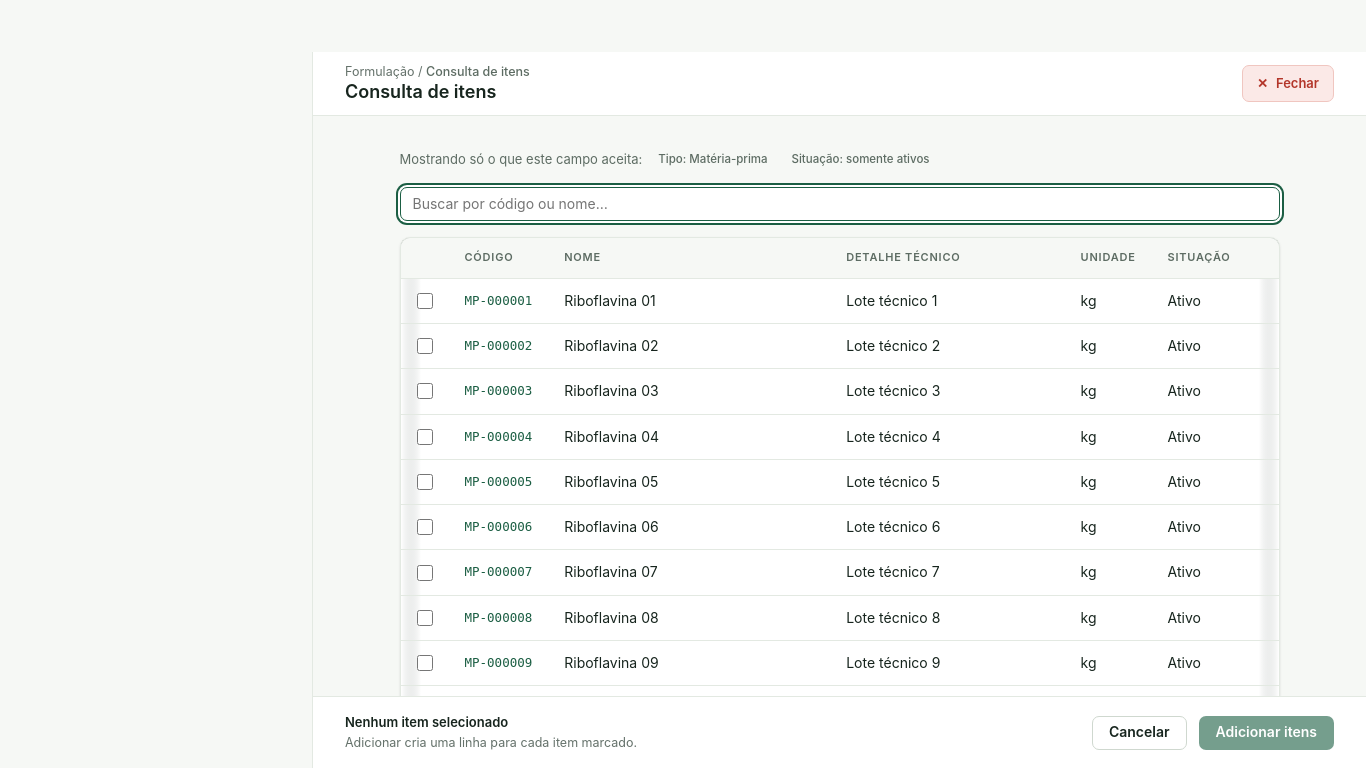
seleção múltipla › maxSelection nunca passa de 10, e um teto menor vale como teto
Click the checkbox named "Selecionar MP-000001 · Riboflavina 01" at (424,301), box [416,293,432,309]
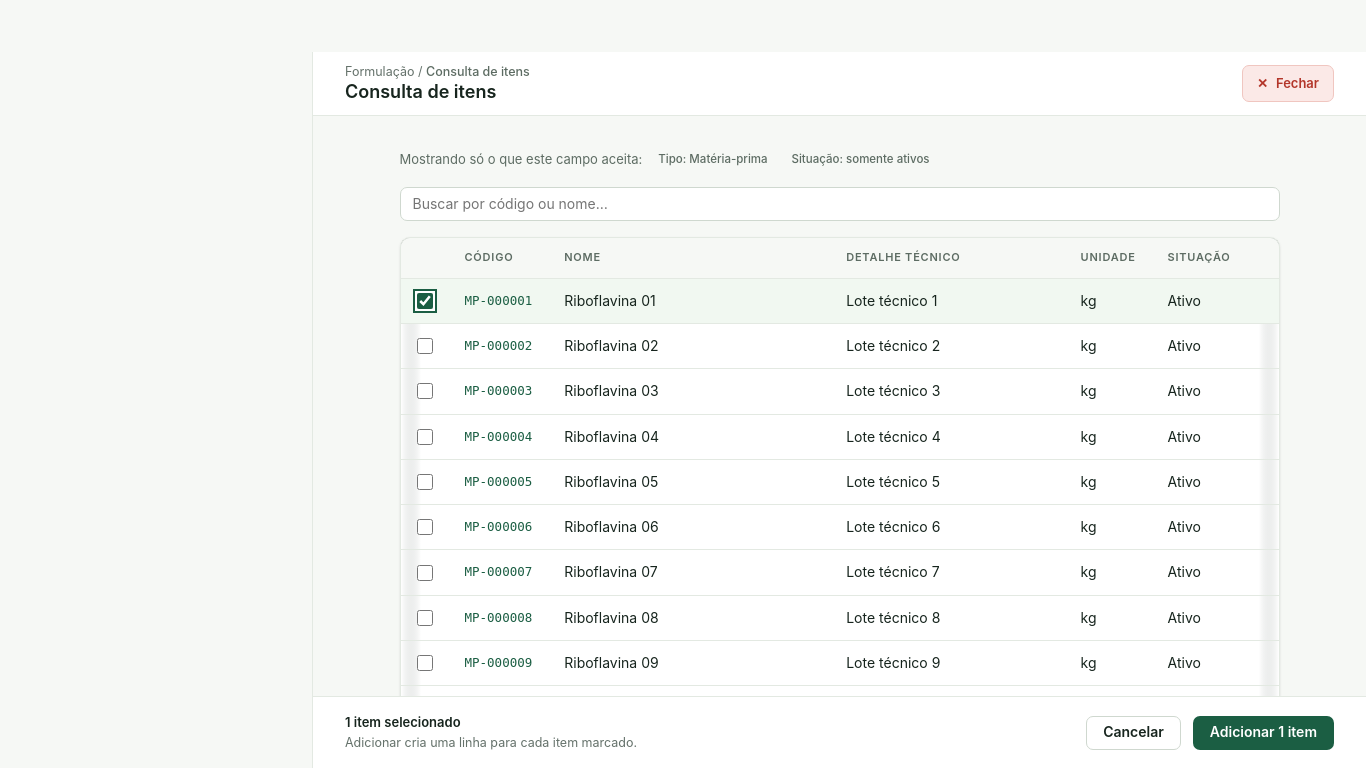
Click the checkbox named "Selecionar MP-000002 · Riboflavina 02" at (424,346), box [416,338,432,354]
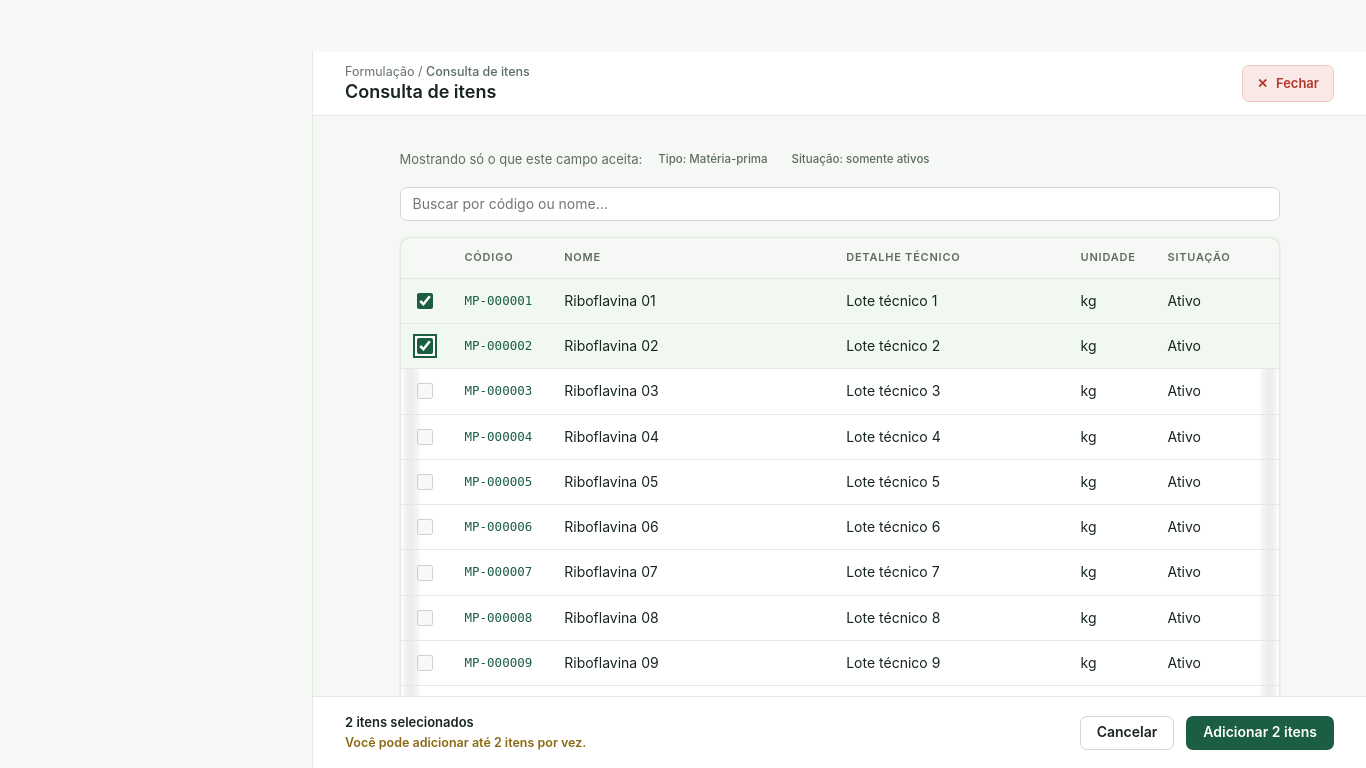
Result: the text "Você pode adicionar até 2 itens por vez." is shown at [345,734,586,752]
